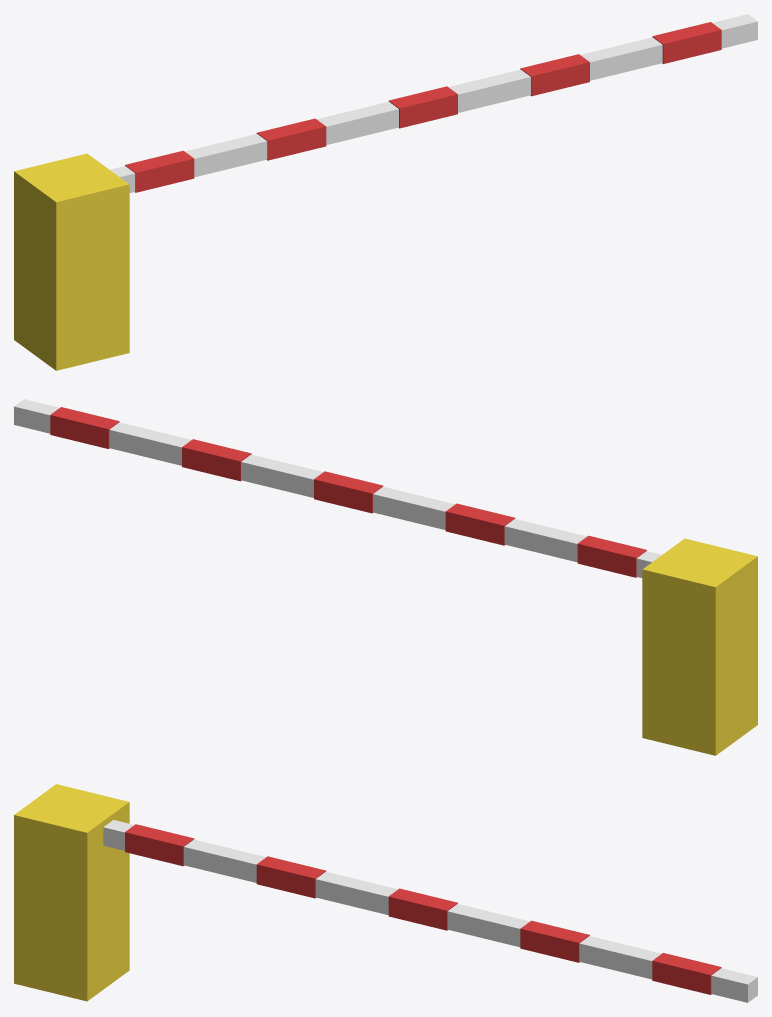
File: barrier.glb
3 views of the same model, one above another, from view 1: azimuth 30°, elevation 25°; view 2: azimuth 150°, elevation 25°; view 3: azimuth 330°, elevation 25° (orthographic).
Visible parts, largest first — view 1: Barrier_Post, Arm, Arm_Stripes; view 2: Barrier_Post, Arm, Arm_Stripes; view 3: Barrier_Post, Arm, Arm_Stripes.
Part boxes in pixels (bbox=[...]): Barrier_Post: bbox=[14, 153, 129, 370]; Arm: bbox=[110, 14, 757, 192]; Arm_Stripes: bbox=[125, 22, 721, 192]; Barrier_Post: bbox=[642, 538, 757, 755]; Arm: bbox=[14, 399, 661, 577]; Arm_Stripes: bbox=[50, 407, 646, 577]; Barrier_Post: bbox=[14, 784, 129, 1001]; Arm: bbox=[103, 820, 757, 1002]; Arm_Stripes: bbox=[125, 824, 721, 994].
Size of the model in its own units: 4.9 by 1.1 by 0.5.
